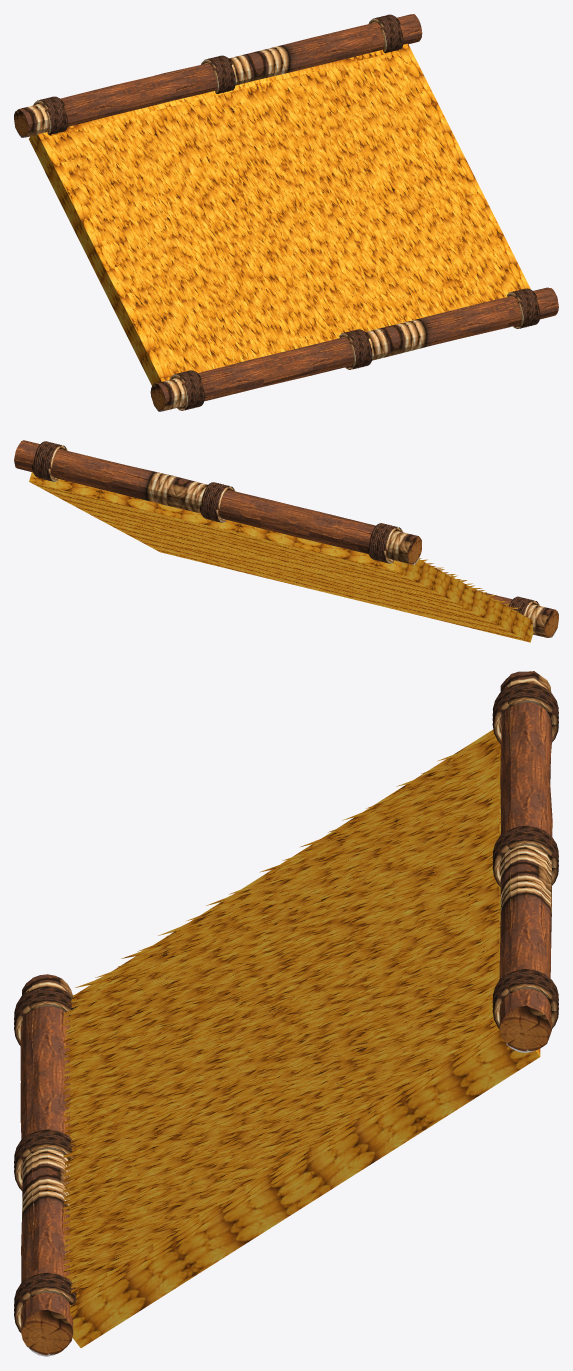
The model's file is Haus_Dachseite.glb.
3 renders of one model, top to bottom at view 1: azimuth 30°, elevation 25°; view 2: azimuth 150°, elevation 25°; view 3: azimuth 270°, elevation 25°, orthographic. The views are drawn at different scales.
Parts seen in each view (by area): view 1: dach; view 2: dach; view 3: dach.
Part boxes in pixels (x1,y1,x2,y2): dach: [14, 14, 558, 411]; dach: [14, 440, 558, 642]; dach: [14, 671, 558, 1356].
Size of the model in its own units: 3.4 by 1.72 by 2.33.
4 materials, 4 textured.
